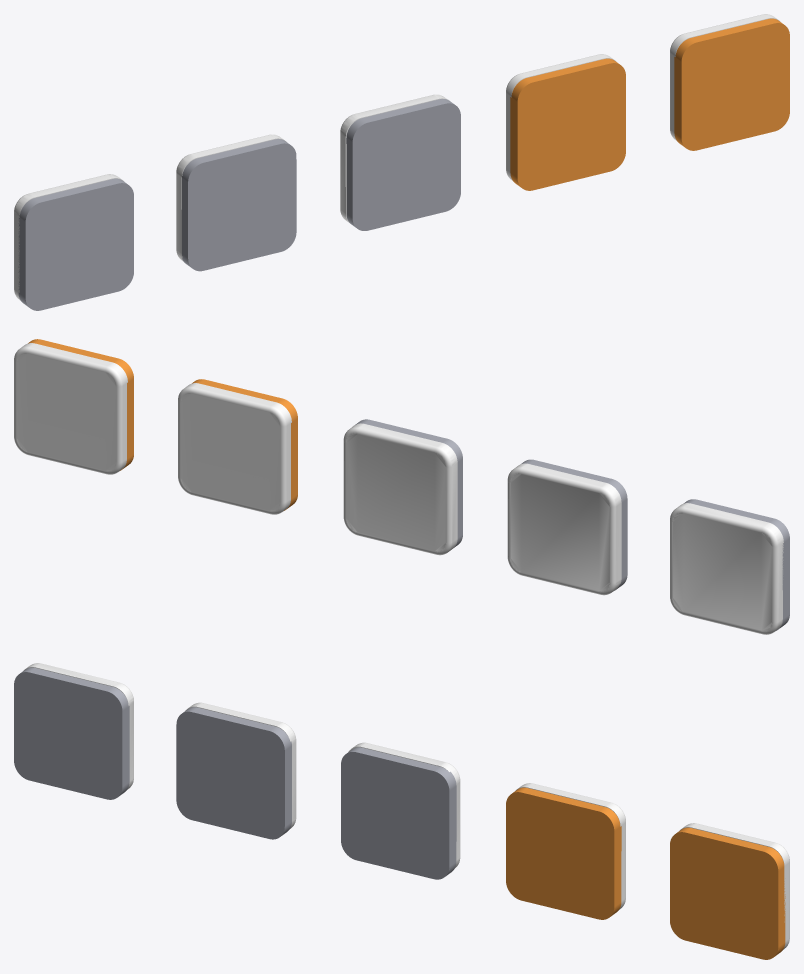
The model's file is yellow.glb.
3 renders of one model, top to bottom at view 1: azimuth 30°, elevation 25°; view 2: azimuth 150°, elevation 25°; view 3: azimuth 330°, elevation 25°, orthographic.
Parts seen in each view (by area): view 1: line_2; view 2: line_2; view 3: line_2.
Part boxes in pixels (<box>): line_2: <box>14,14,789,310</box>; line_2: <box>14,339,789,634</box>; line_2: <box>14,663,789,959</box>.
Size of the model in its own units: 0.1481 by 0.0201 by 0.00451.
Materials: 6 (1 with a texture image).
